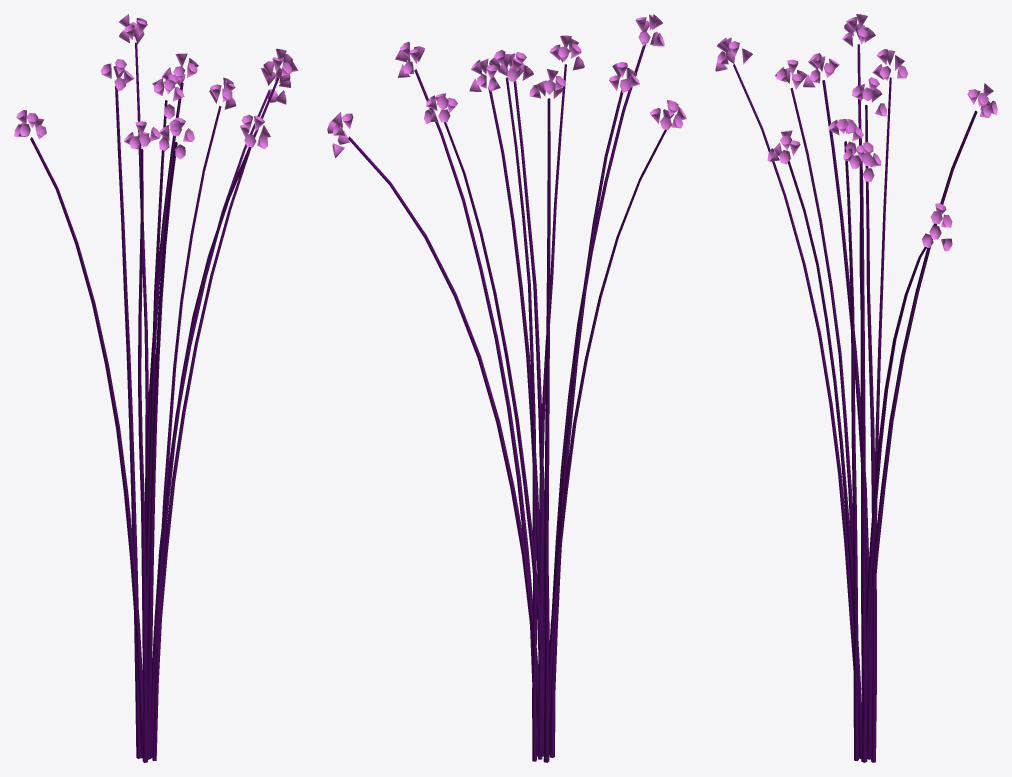
The model's file is Flowers1.FBX.
3 views of the same model, side by side, from view 1: azimuth 30°, elevation 25°; view 2: azimuth 150°, elevation 25°; view 3: azimuth 270°, elevation 25° (orthographic).
Parts seen in each view (by area): view 1: Foliage001; view 2: Foliage001; view 3: Foliage001.
Part boxes in pixels (left/top/right/bottom): Foliage001: left=14, top=14, right=298, bottom=762; Foliage001: left=327, top=14, right=686, bottom=762; Foliage001: left=715, top=14, right=997, bottom=762.
Size of the model in its own units: 24.19 by 51.93 by 18.83.
